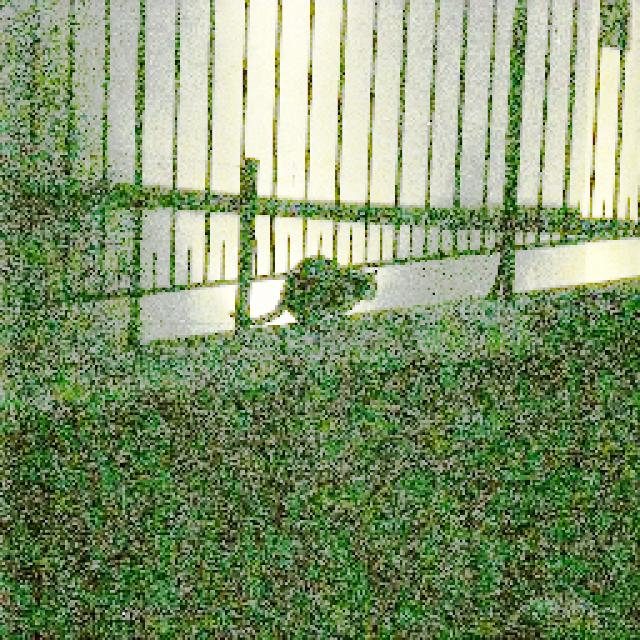cat: (233, 251, 384, 327)
